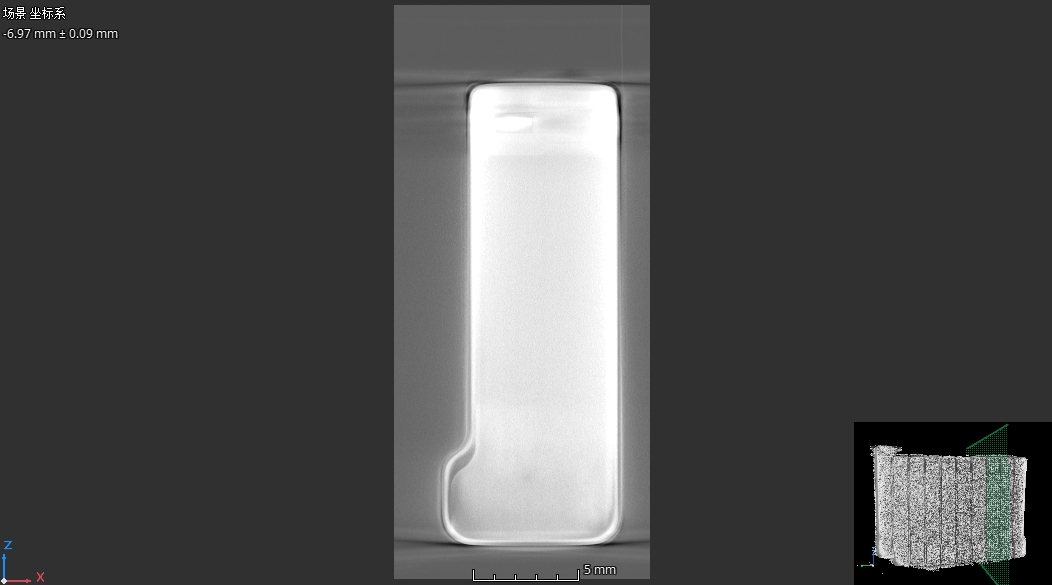dark: (520, 468, 534, 487)
